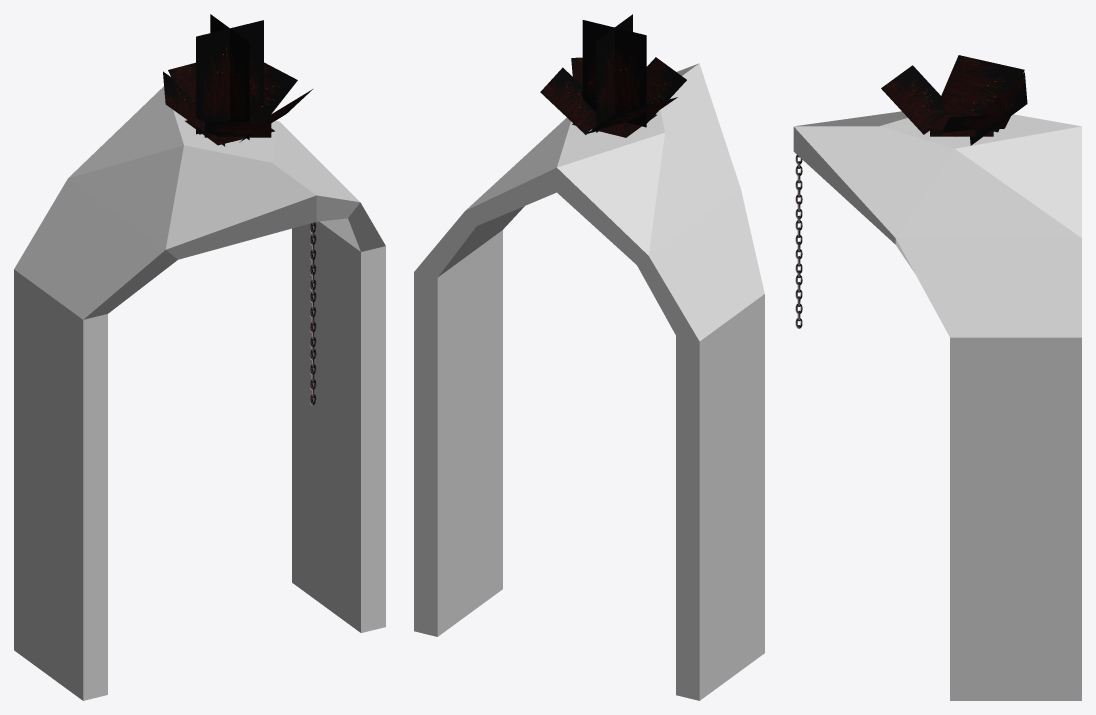
Rendered from GateOuterPiece_Big.fbx.
The picture shows the model from 3 angles, left to right: view 1: azimuth 30°, elevation 25°; view 2: azimuth 150°, elevation 25°; view 3: azimuth 270°, elevation 25°; orthographic projection. The views are drawn at different scales.
Parts seen in each view (by area): view 1: Plane.012; view 2: Plane.012; view 3: Plane.012.
Part boxes in pixels (x1,y1,x2,y2): Plane.012: [14, 14, 385, 700]; Plane.012: [414, 14, 764, 700]; Plane.012: [793, 55, 1081, 700].
Bounding box in the file's own units: 124 × 247 × 107.
3 materials, 2 textured.
